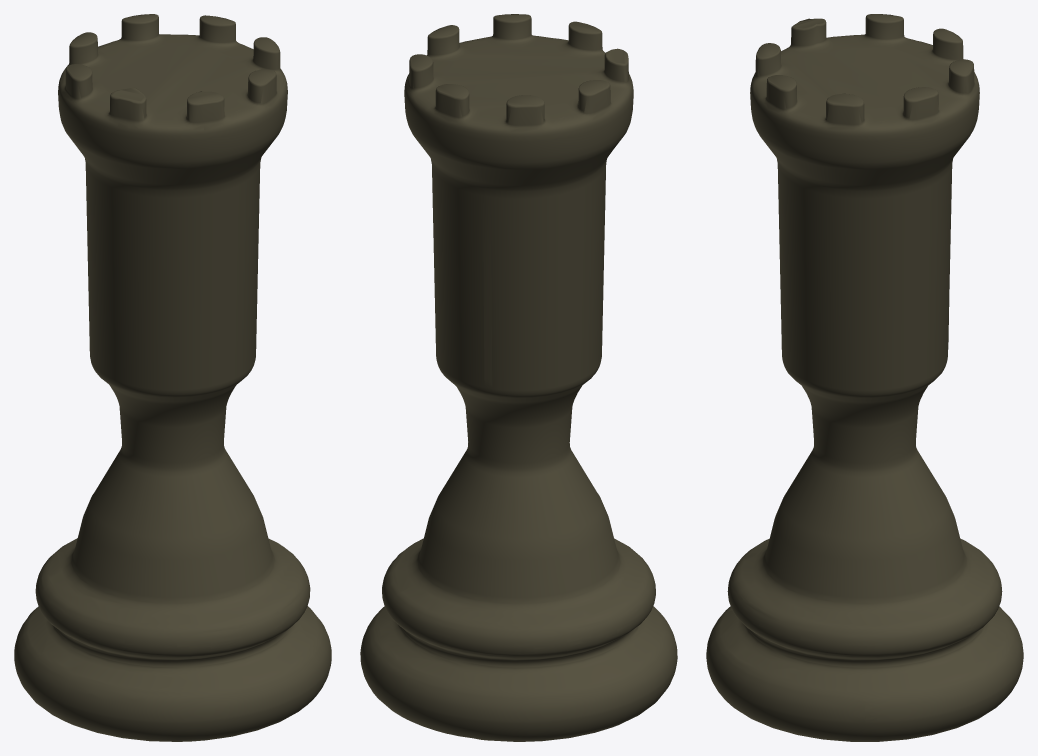
The model's file is white-rook.obj.
The picture shows the model from 3 angles, left to right: view 1: azimuth 30°, elevation 25°; view 2: azimuth 150°, elevation 25°; view 3: azimuth 270°, elevation 25°; orthographic projection.
Visible parts, largest first — view 1: White_chess_side.011; view 2: White_chess_side.011; view 3: White_chess_side.011.
Part boxes in pixels (x1,y1,x2,y2): White_chess_side.011: (14,14,331,741); White_chess_side.011: (360,14,677,741); White_chess_side.011: (706,14,1023,741).
Size of the model in its own units: 1.29 by 2.84 by 1.29.
